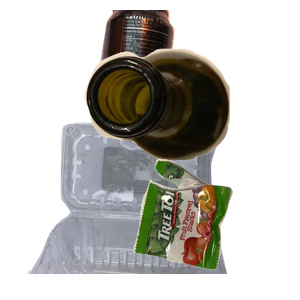glass: (82, 46, 300, 199)
metal: (91, 10, 258, 188)
plastic: (25, 120, 245, 300)
trash: (131, 156, 300, 300)
